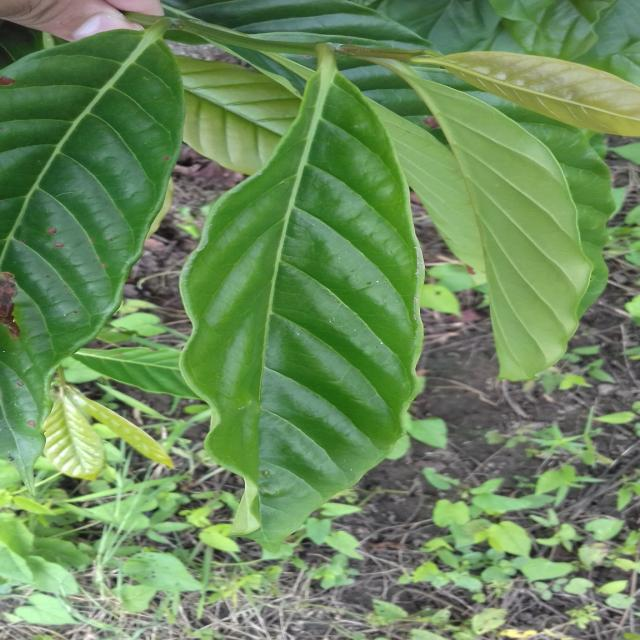Sanas: (178, 45, 443, 561)
